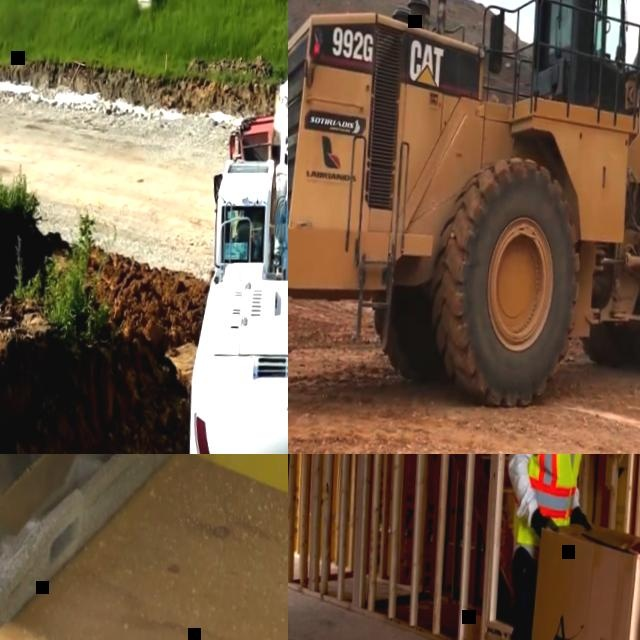Person: (481, 454, 607, 640)
Safety Vest: (506, 454, 589, 548)
machinery: (288, 0, 640, 434), (178, 0, 288, 454)
